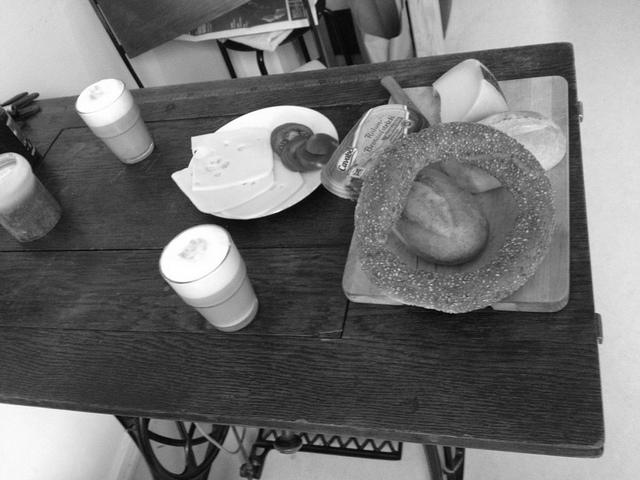cup: (148, 220, 269, 334), (70, 72, 172, 175)
